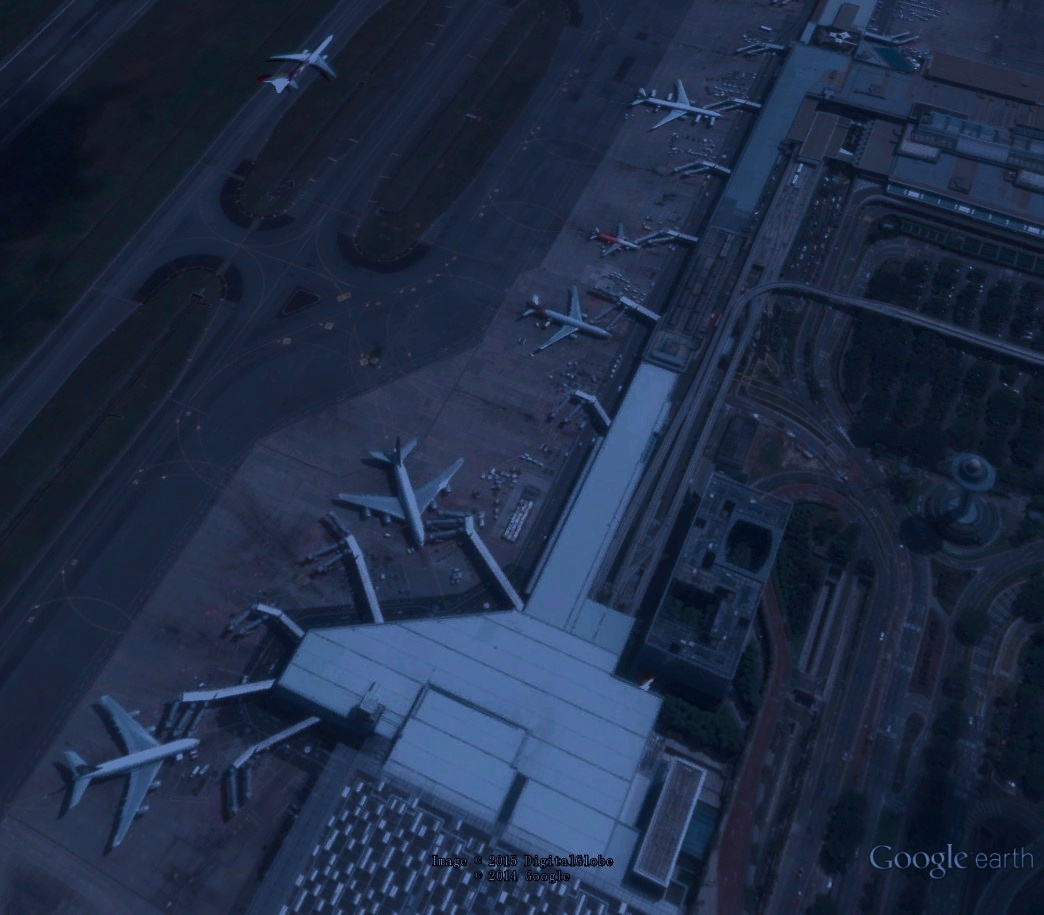aircraft: (49, 691, 210, 855), (331, 435, 469, 558), (514, 280, 615, 355), (619, 75, 730, 135), (264, 28, 346, 96), (583, 219, 646, 261)
